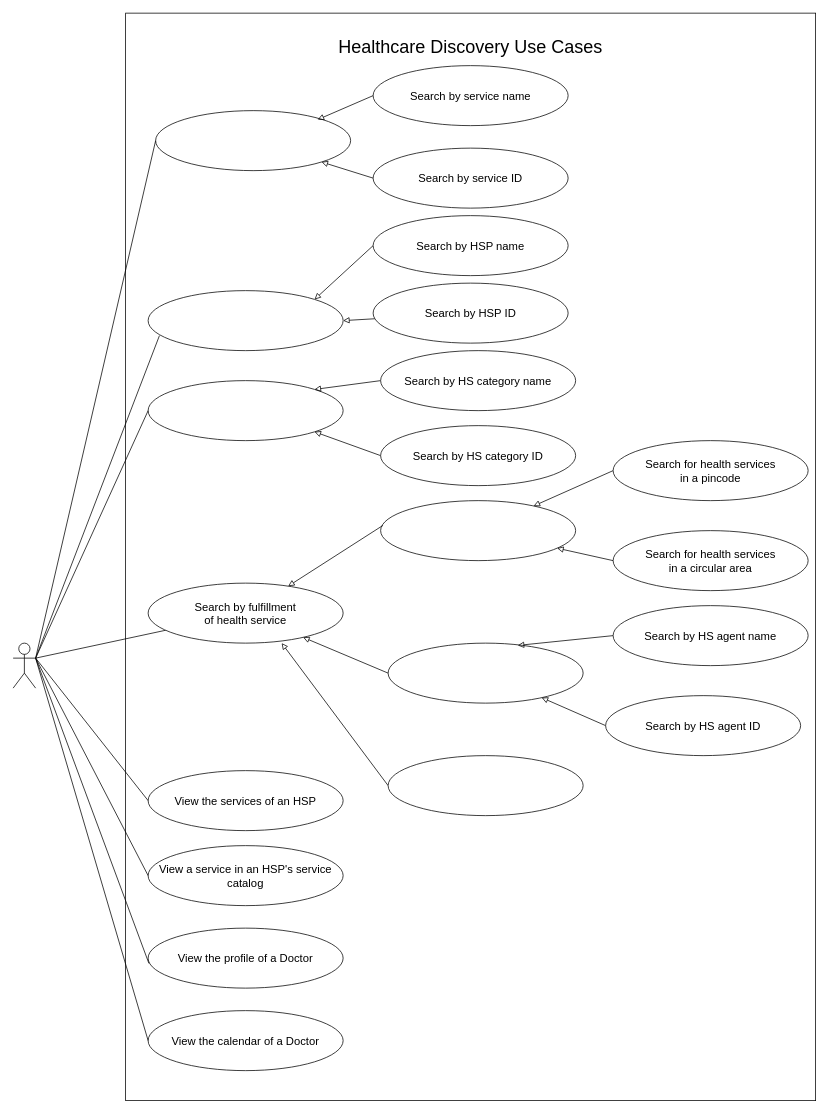
Some shapes in this 829 by 1114 pixel diagram are drawn without their labels. Each missing label, with the centre of its shape:
"BAP" goes at point 24,665.
"Search by health service" goes at point 253,140.
"Search by health service category" goes at point 245,410.
"Search by health service provider" goes at point 245,320.
"Search by HS fulfillment location" goes at point 478,530.
"Search by HS fulfillment time" goes at point 485,785.
"Search by HS fulillment agent (Doctor)" goes at point 485,672.
